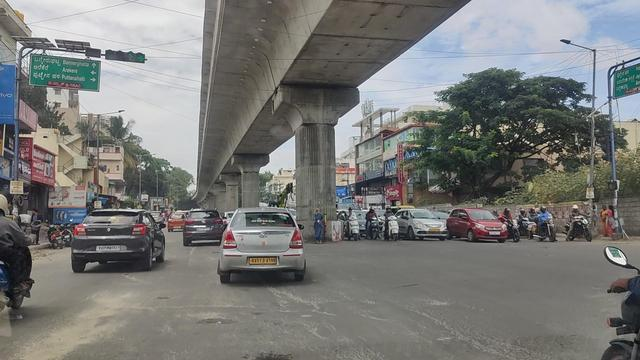LMV: (218, 206, 305, 282), (72, 206, 164, 271)
RoadDamages: (266, 279, 332, 317), (159, 295, 251, 313)
